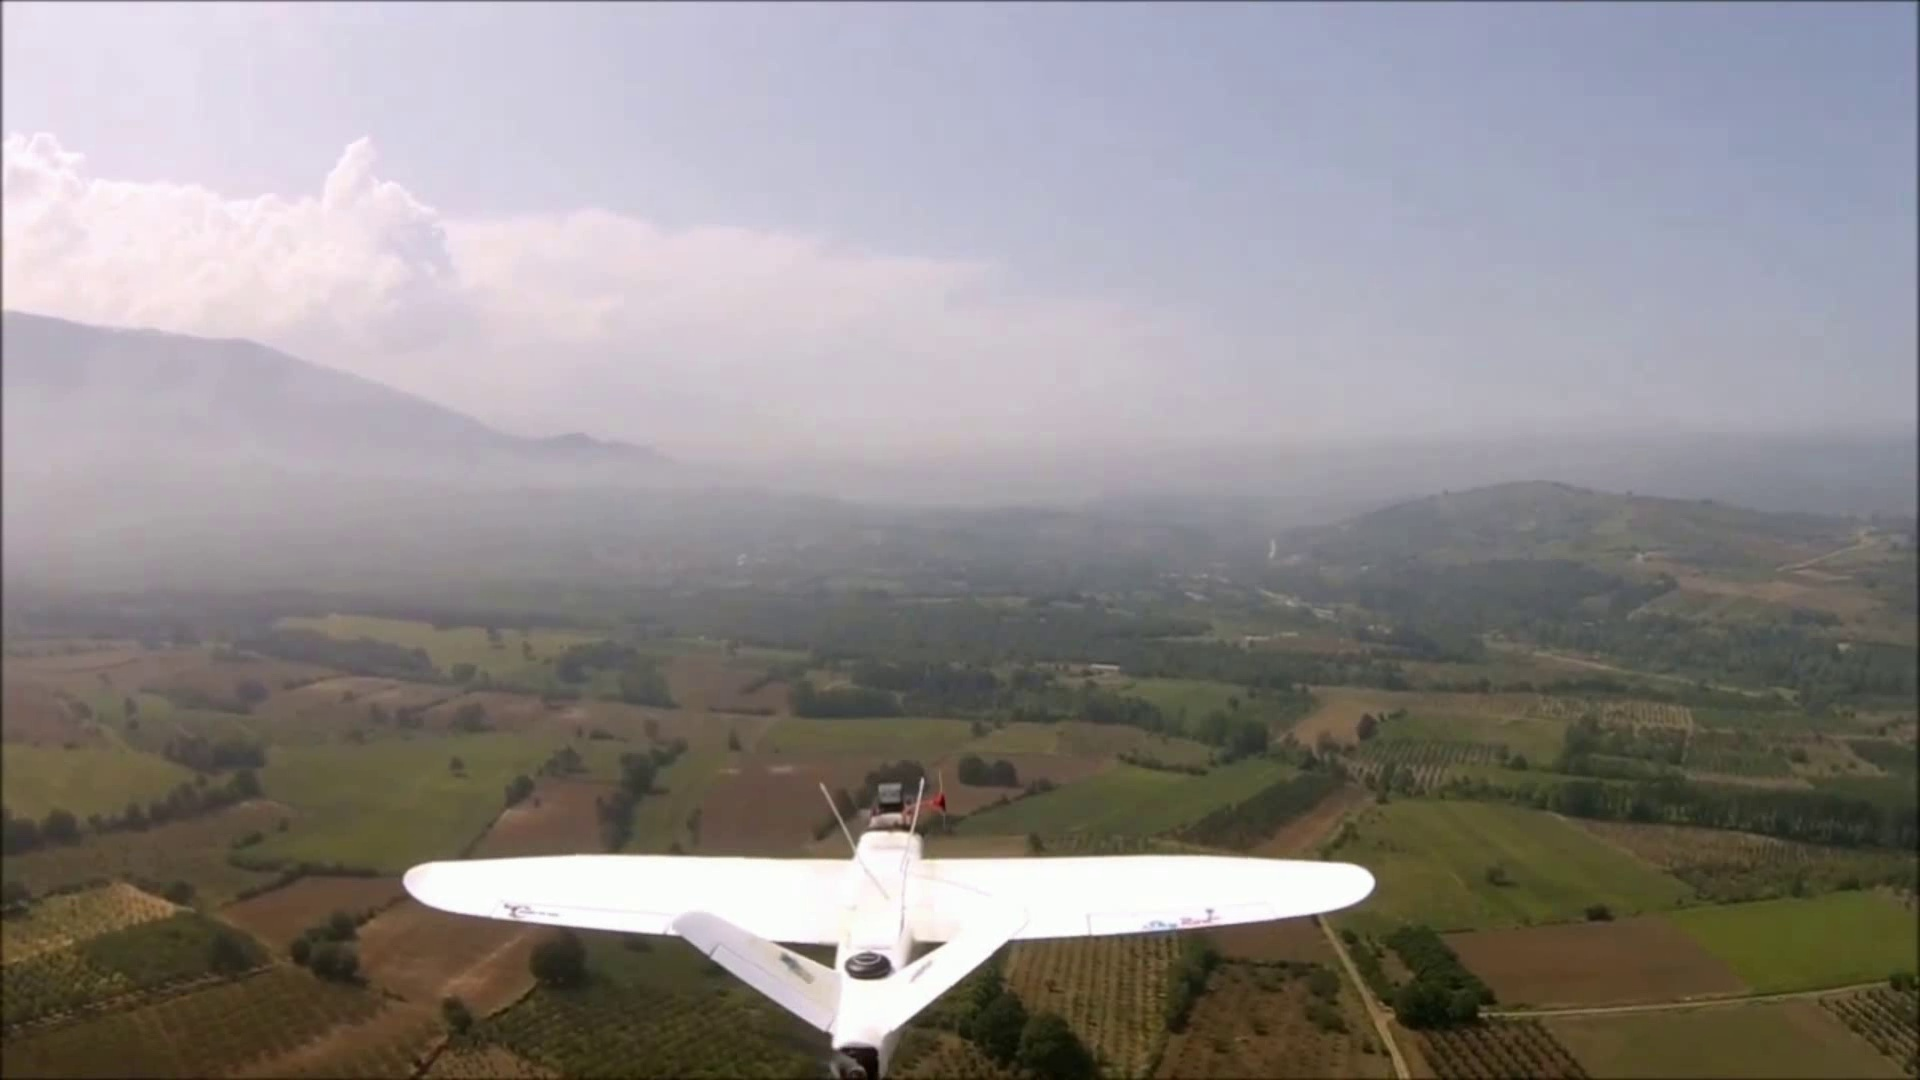airplane: (398, 764, 1375, 1071)
